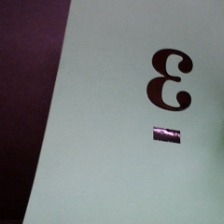green3: (144, 43, 201, 147)
